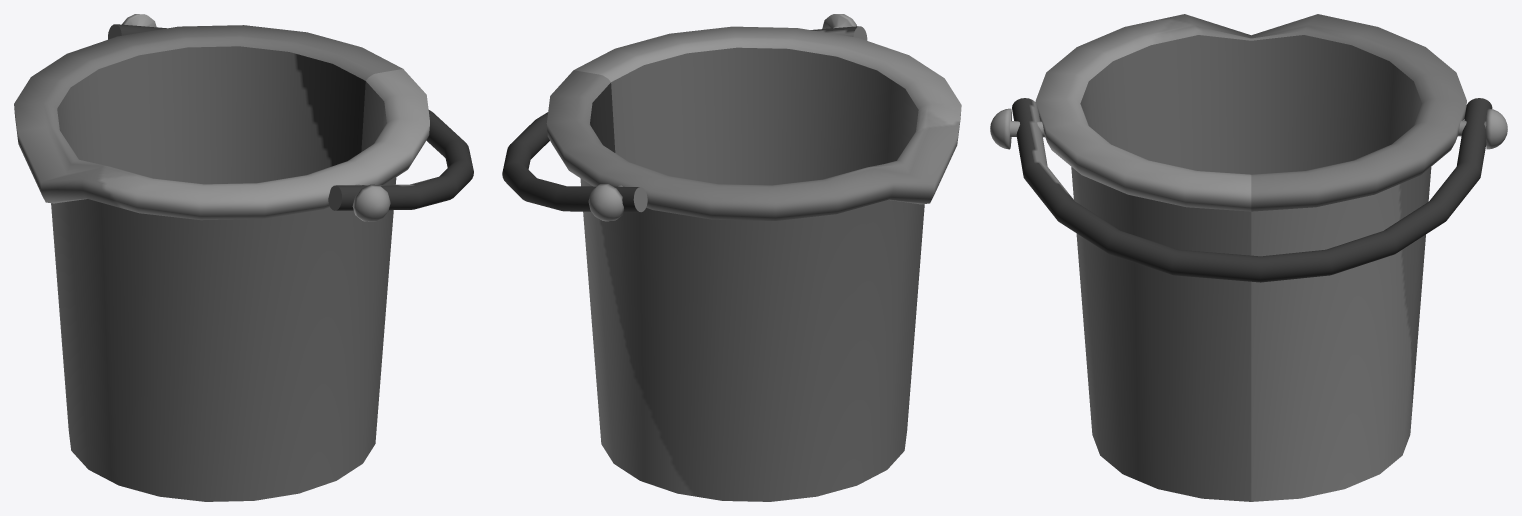
File: CuboArena.fbx
3 views of the same model, side by side, from view 1: azimuth 30°, elevation 25°; view 2: azimuth 150°, elevation 25°; view 3: azimuth 270°, elevation 25° (orthographic). The views are drawn at different scales.
Visible parts, largest first — view 1: deco_low_pCylinder64; view 2: deco_low_pCylinder64; view 3: deco_low_pCylinder64.
Boxes of the visible parts, x1,y1,x2,y2 form: deco_low_pCylinder64: [14, 14, 473, 501]; deco_low_pCylinder64: [502, 14, 961, 501]; deco_low_pCylinder64: [990, 14, 1507, 501].
Size of the model in its own units: 113 by 89.22 by 123.
